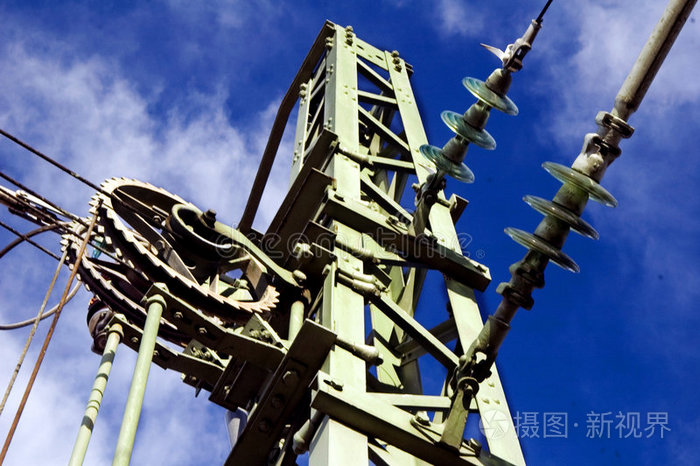insulator: (505, 159, 620, 276), (418, 73, 514, 181)
